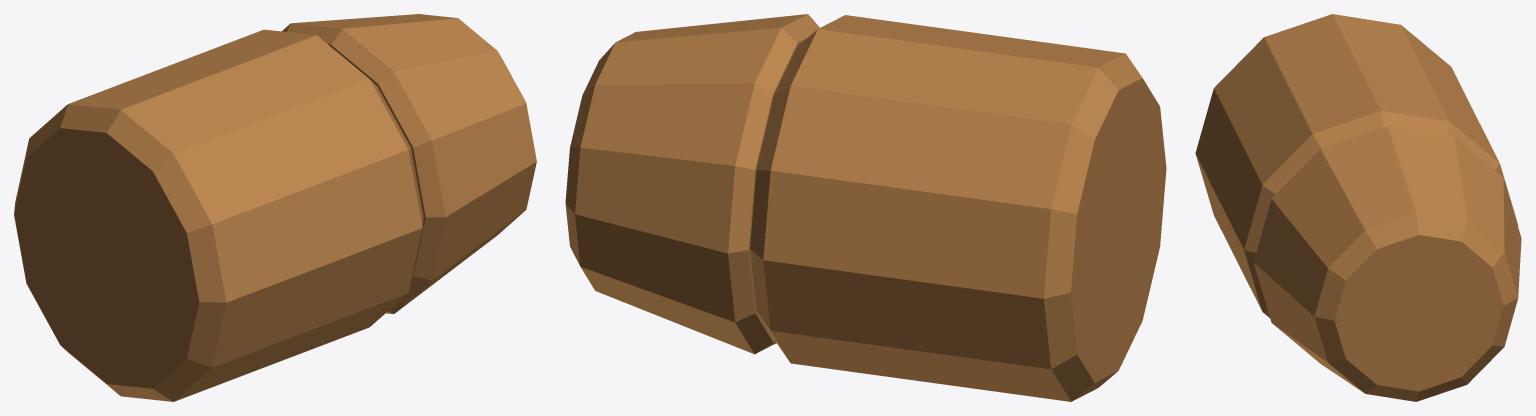
File: AuxAmmoHeavyPistolProjectile_Ground.fbx
The picture shows the model from 3 angles, left to right: view 1: azimuth 30°, elevation 25°; view 2: azimuth 150°, elevation 25°; view 3: azimuth 270°, elevation 25°; orthographic projection. The views are drawn at different scales.
Visible parts, largest first — view 1: AuxAmmoHeavyPistolProjectile_Ground_GameExport; view 2: AuxAmmoHeavyPistolProjectile_Ground_GameExport; view 3: AuxAmmoHeavyPistolProjectile_Ground_GameExport.
Boxes of the visible parts, x1,y1,x2,y2 form: AuxAmmoHeavyPistolProjectile_Ground_GameExport: [14, 14, 536, 401]; AuxAmmoHeavyPistolProjectile_Ground_GameExport: [565, 14, 1166, 401]; AuxAmmoHeavyPistolProjectile_Ground_GameExport: [1195, 14, 1521, 401].
Size of the model in its own units: 1.83 by 1.28 by 1.1.
